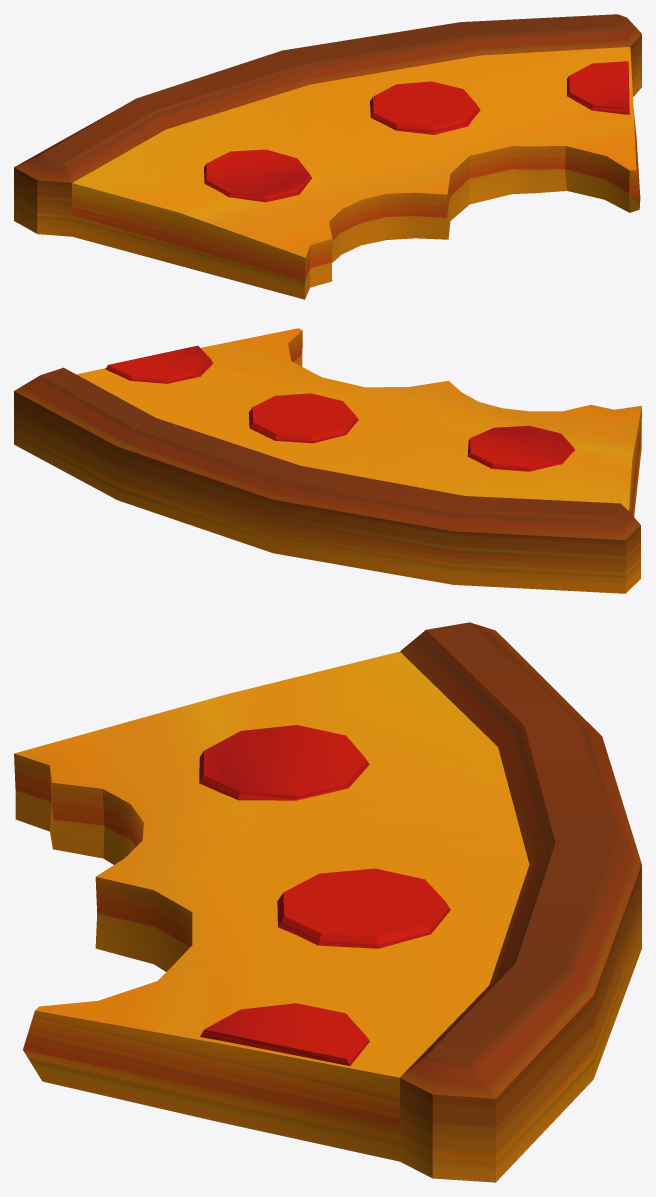
The model's file is pizzaEaten.glb.
The picture shows the model from 3 angles, top to bottom: view 1: azimuth 30°, elevation 25°; view 2: azimuth 150°, elevation 25°; view 3: azimuth 270°, elevation 25°; orthographic projection. The views are drawn at different scales.
Parts seen in each view (by area): view 1: Pizza_Slice_HalfEaten; view 2: Pizza_Slice_HalfEaten; view 3: Pizza_Slice_HalfEaten.
Part boxes in pixels (bbox=[...]): Pizza_Slice_HalfEaten: bbox=[14, 14, 641, 299]; Pizza_Slice_HalfEaten: bbox=[14, 328, 641, 593]; Pizza_Slice_HalfEaten: bbox=[14, 622, 641, 1182].
Bounding box in the file's own units: 1.02 × 0.1079 × 0.581.
Materials: 1 (1 with a texture image).
